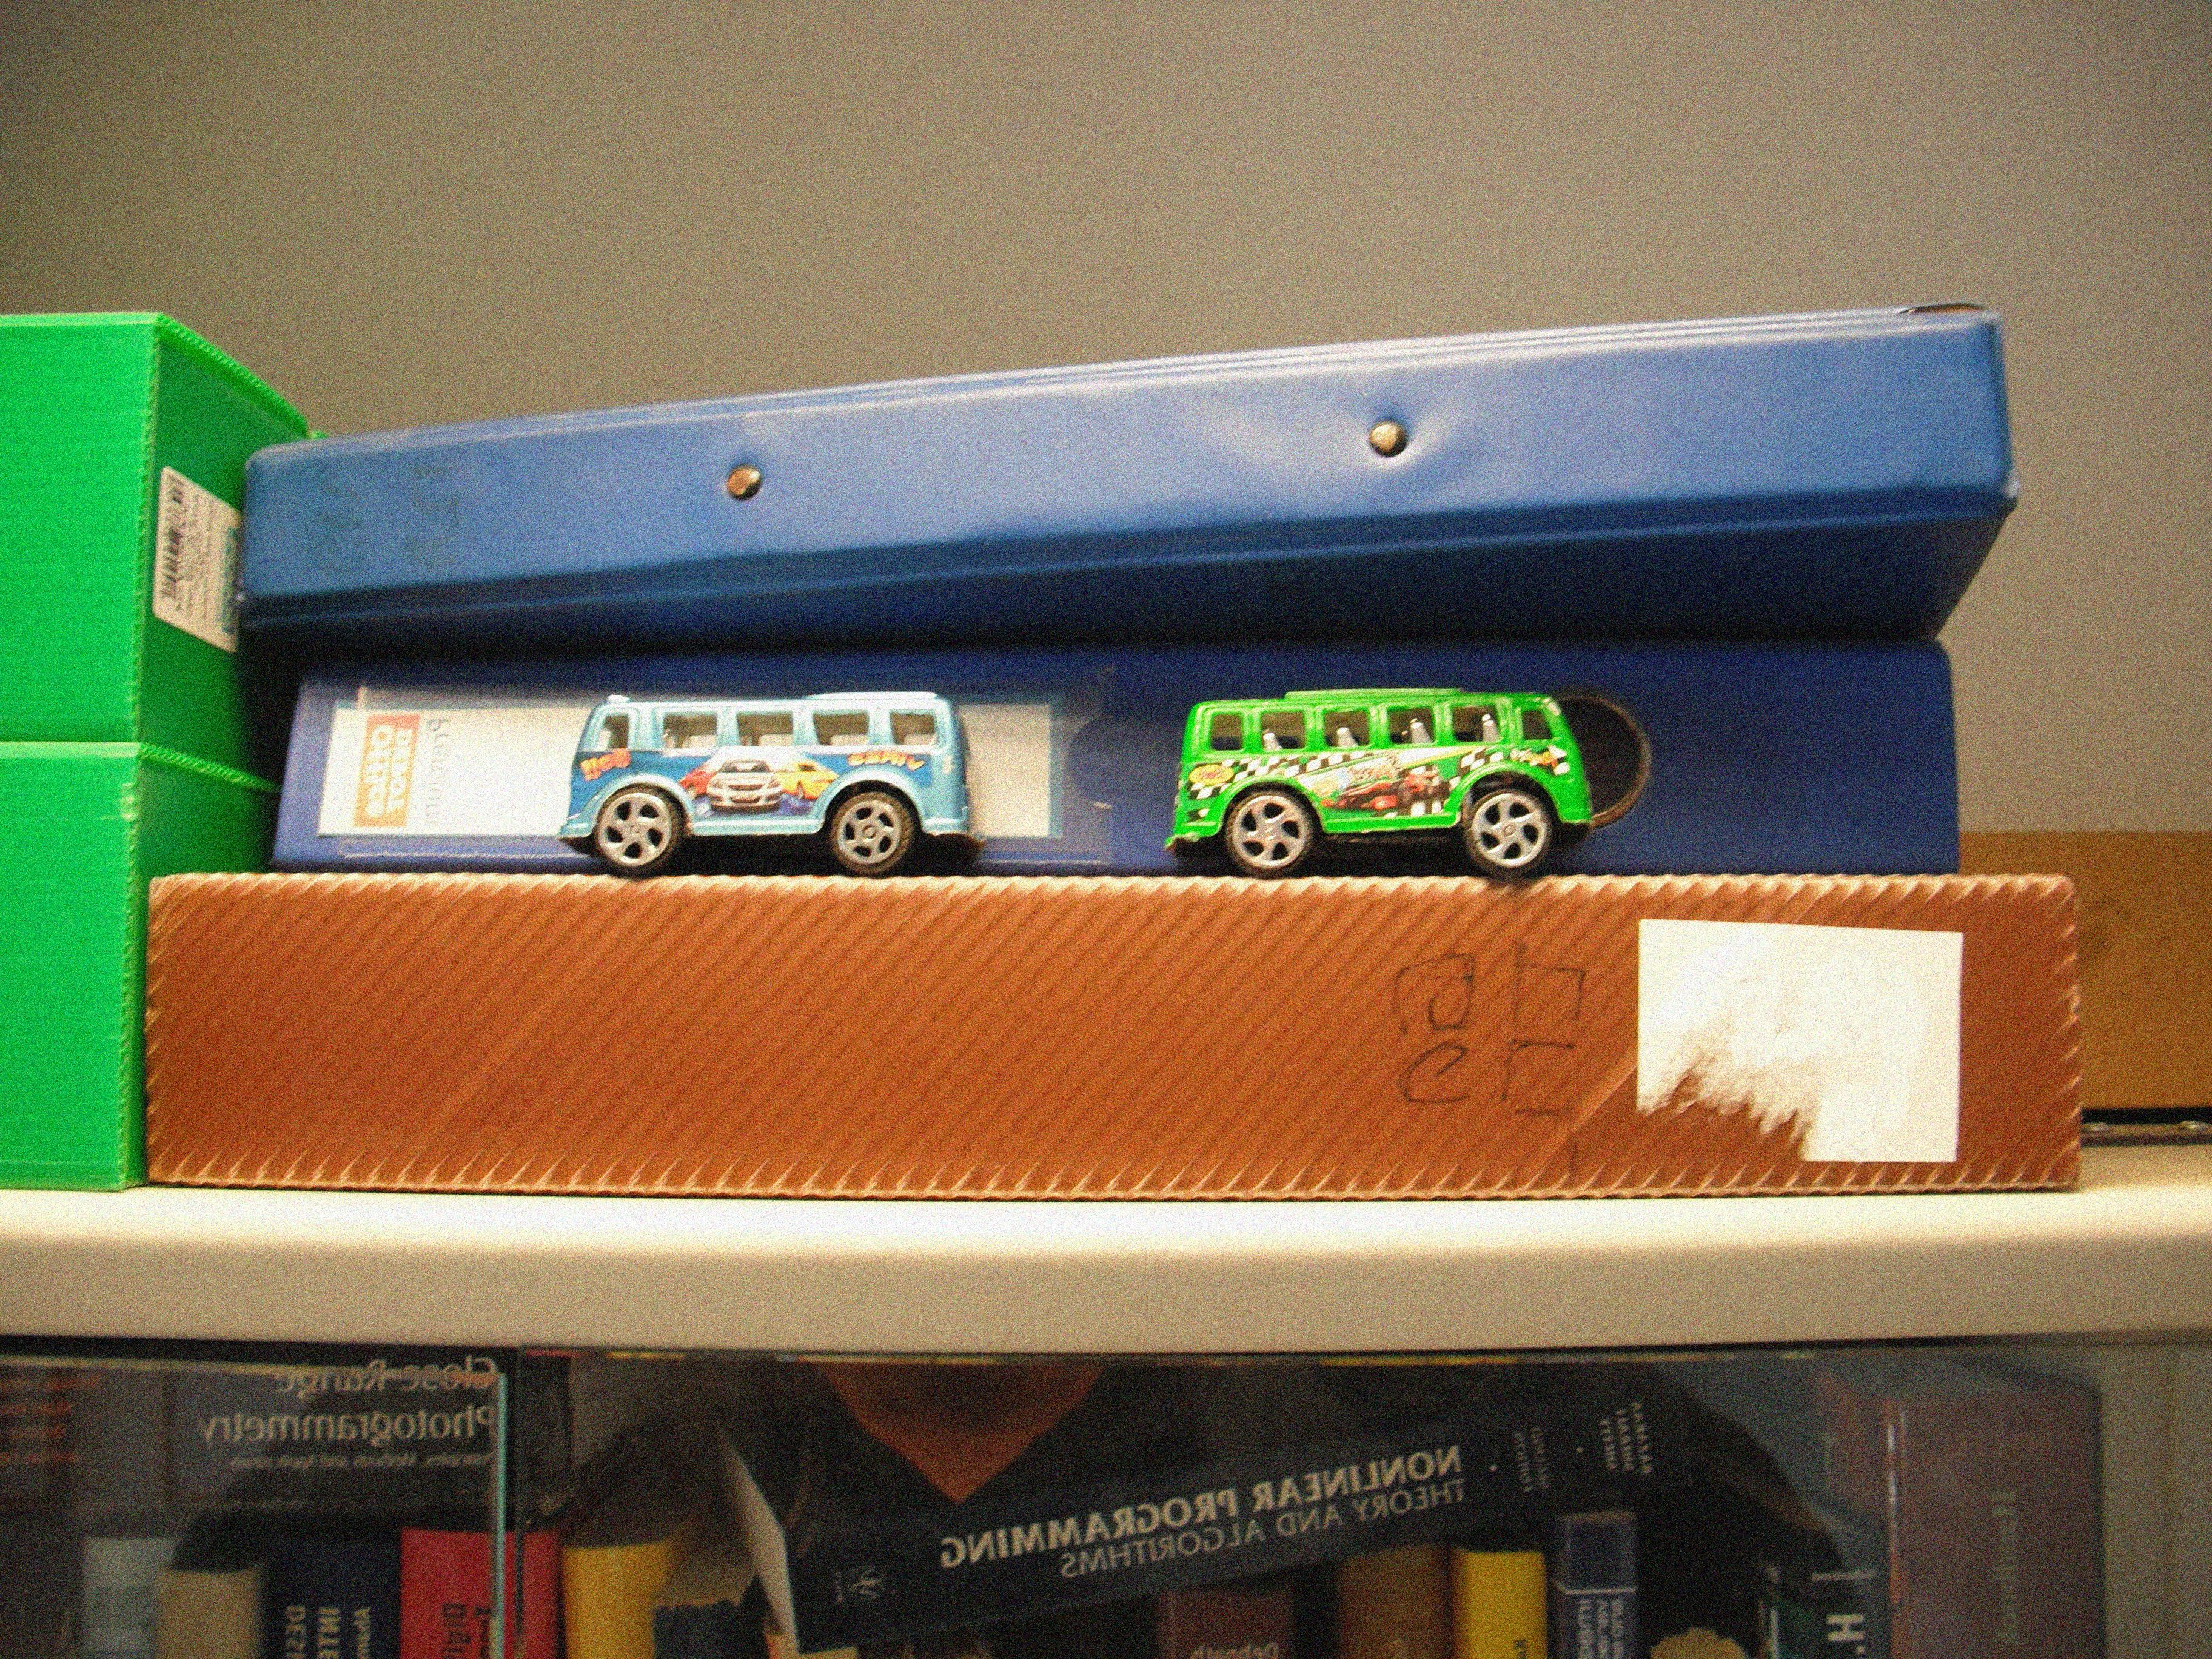Blue: (566, 690, 979, 887)
Green: (1162, 680, 1594, 880)
